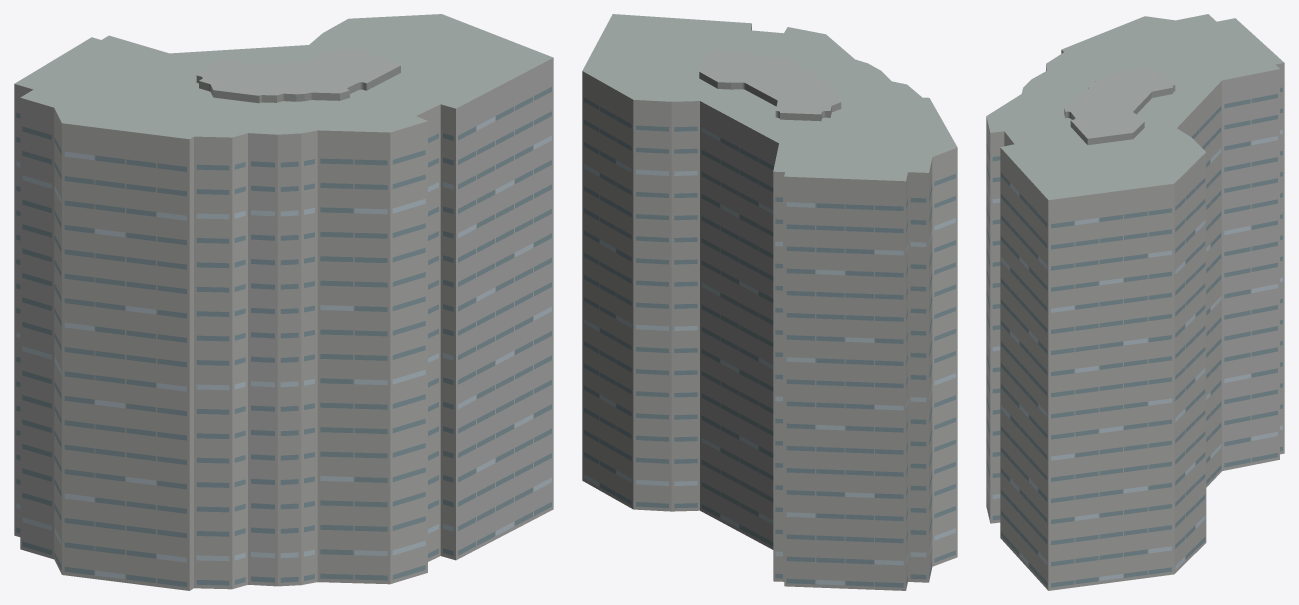
File: apt-a13872502.glb
The picture shows the model from 3 angles, left to right: view 1: azimuth 30°, elevation 25°; view 2: azimuth 150°, elevation 25°; view 3: azimuth 270°, elevation 25°; orthographic projection. The views are drawn at different scales.
Visible parts, largest first — view 1: apt-a13872502; view 2: apt-a13872502; view 3: apt-a13872502.
Part boxes in pixels (x1=…): apt-a13872502: x1=14, y1=14, x2=553, y2=590; apt-a13872502: x1=582, y1=14, x2=957, y2=590; apt-a13872502: x1=986, y1=14, x2=1284, y2=590.
Size of the model in its own units: 149 by 148 by 101.
